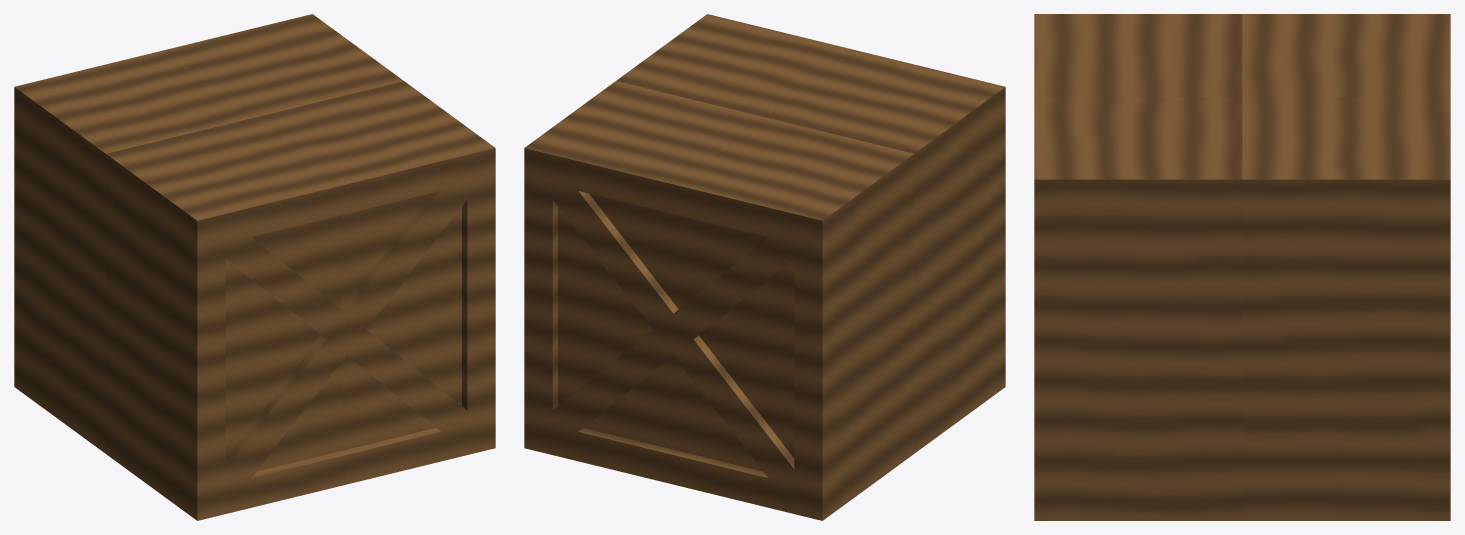
Rendered from SM_Souq_Crate.fbx.
3 renders of one model, left to right at view 1: azimuth 30°, elevation 25°; view 2: azimuth 150°, elevation 25°; view 3: azimuth 270°, elevation 25°, orthographic. The views are drawn at different scales.
Parts seen in each view (by area): view 1: SM_Souq_Crate; view 2: SM_Souq_Crate; view 3: SM_Souq_Crate.
Boxes of the visible parts, x1,y1,x2,y2 form: SM_Souq_Crate: [14, 14, 495, 520]; SM_Souq_Crate: [524, 14, 1005, 520]; SM_Souq_Crate: [1034, 14, 1450, 520].
Size of the model in its own units: 0.6324 by 0.6081 by 0.6724.
Materials: 1 (1 with a texture image).
